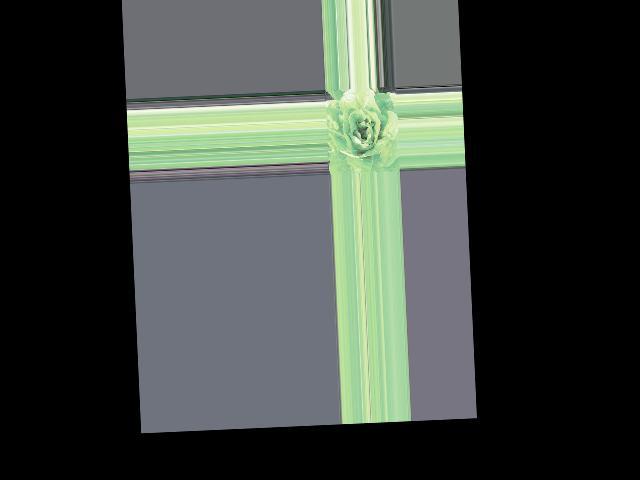lettuce: (324, 90, 397, 173)
